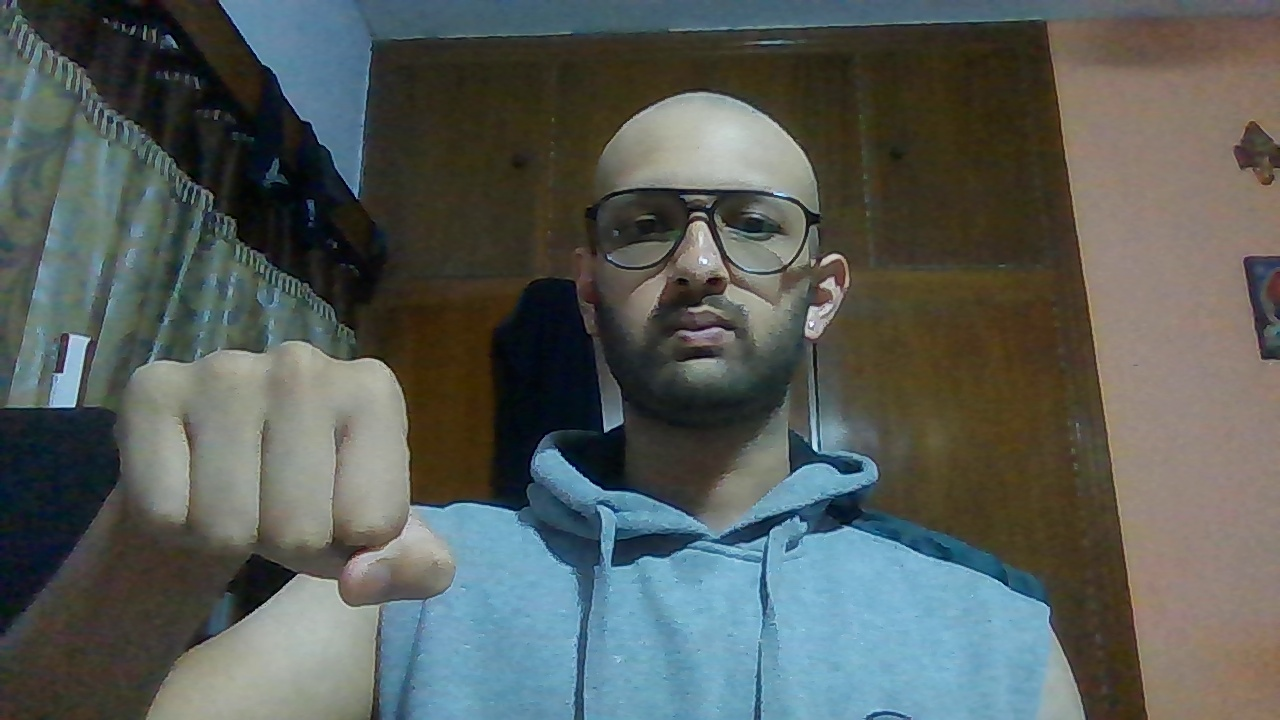Yes: (106, 336, 463, 602)
